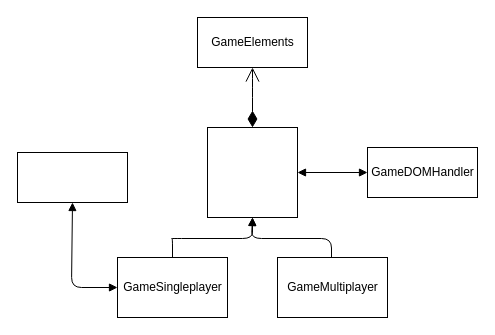
Image size: 495x335. Some labels were removed from this diagram. Here are the shapes that lost their labels. From the top down, the box of each, then its label:
(16, 152, 128, 202): GameClient
(206, 126, 298, 218): Game
